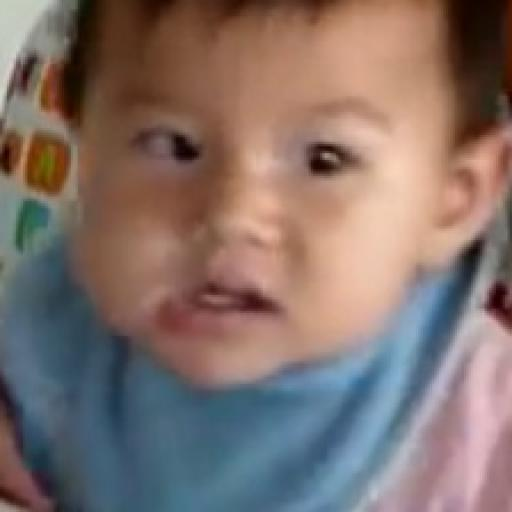Autism: (100, 12, 459, 420)
